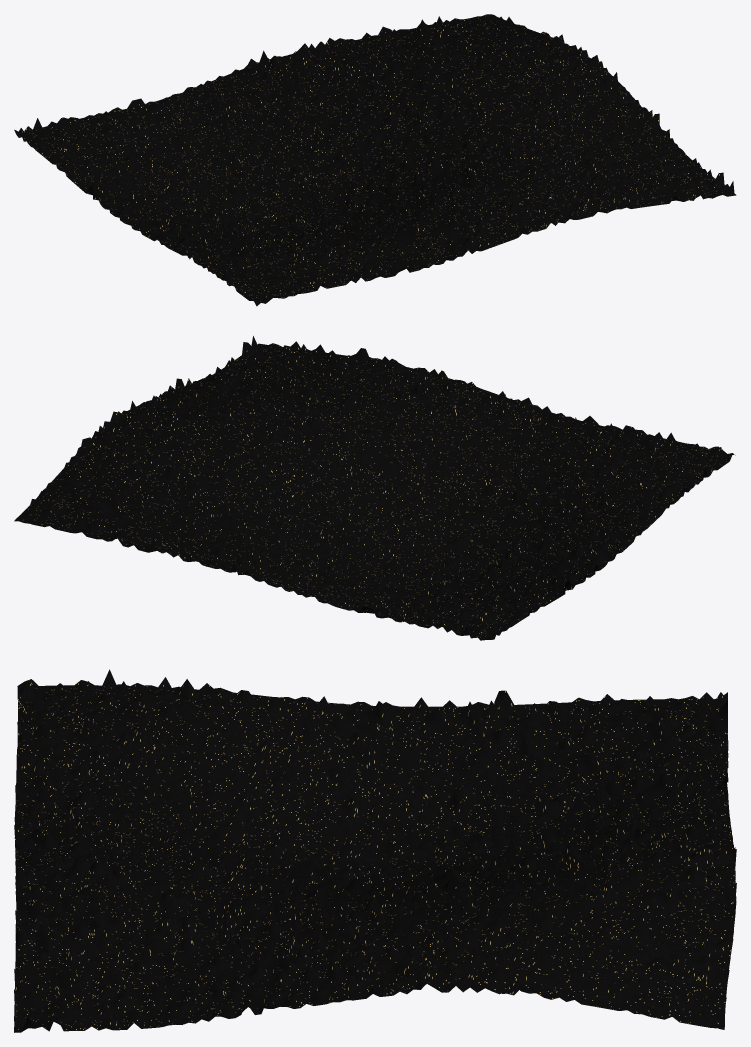
The model's file is background_waive_sharp.obj.
3 renders of one model, top to bottom at view 1: azimuth 30°, elevation 25°; view 2: azimuth 150°, elevation 25°; view 3: azimuth 270°, elevation 25°, orthographic. The views are drawn at different scales.
Size of the model in its own units: 2.27 by 0.3615 by 2.02.
1 material, 1 textured.
